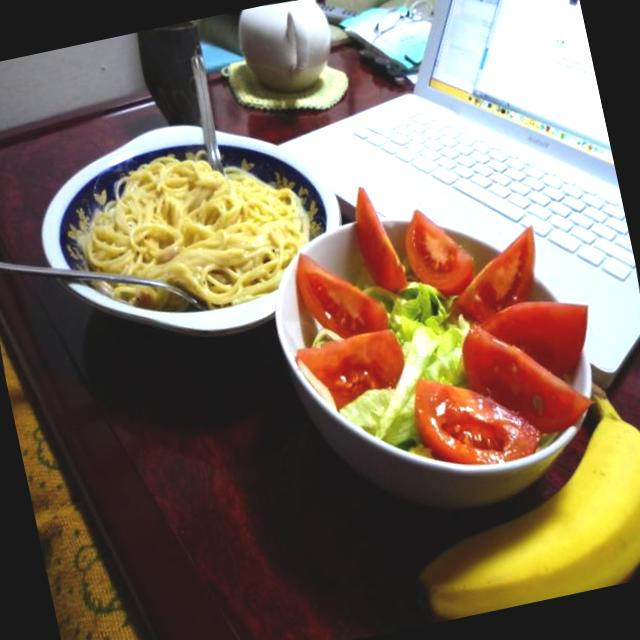Pasta: (64, 95, 320, 348)
